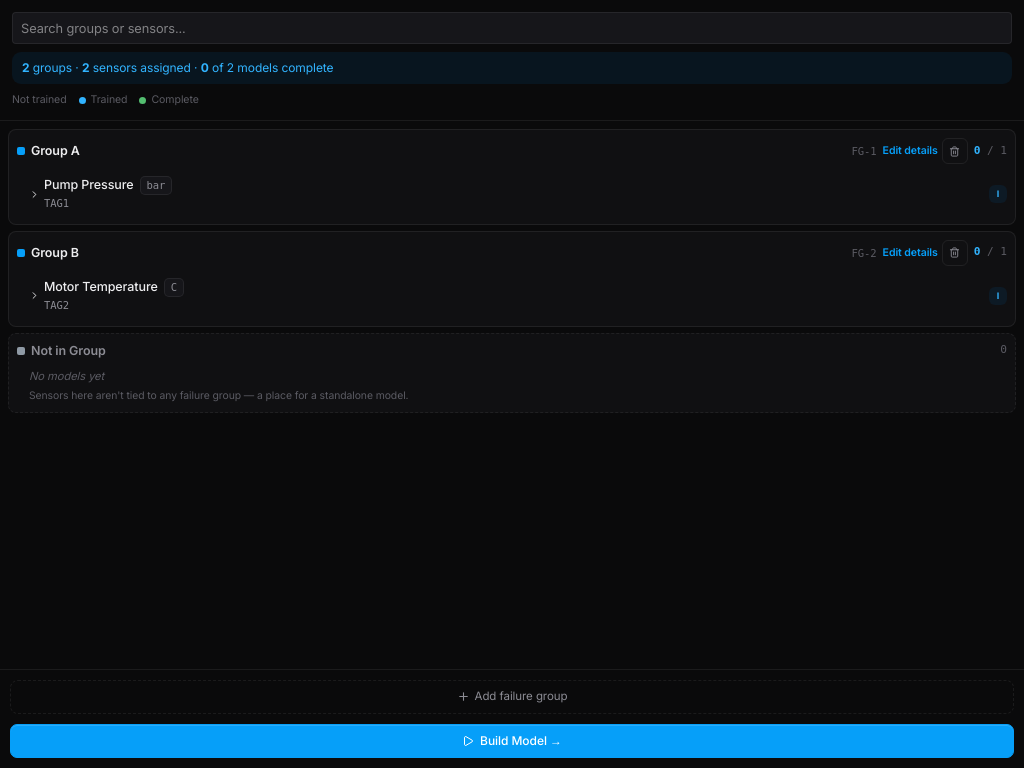
Test: FailureGroupsPanel › search box › clearing the search restores every group and sensor
Type "motor" into the field with placeholder "Search groups or sensors..." at (512, 28), box [12, 12, 1012, 44]
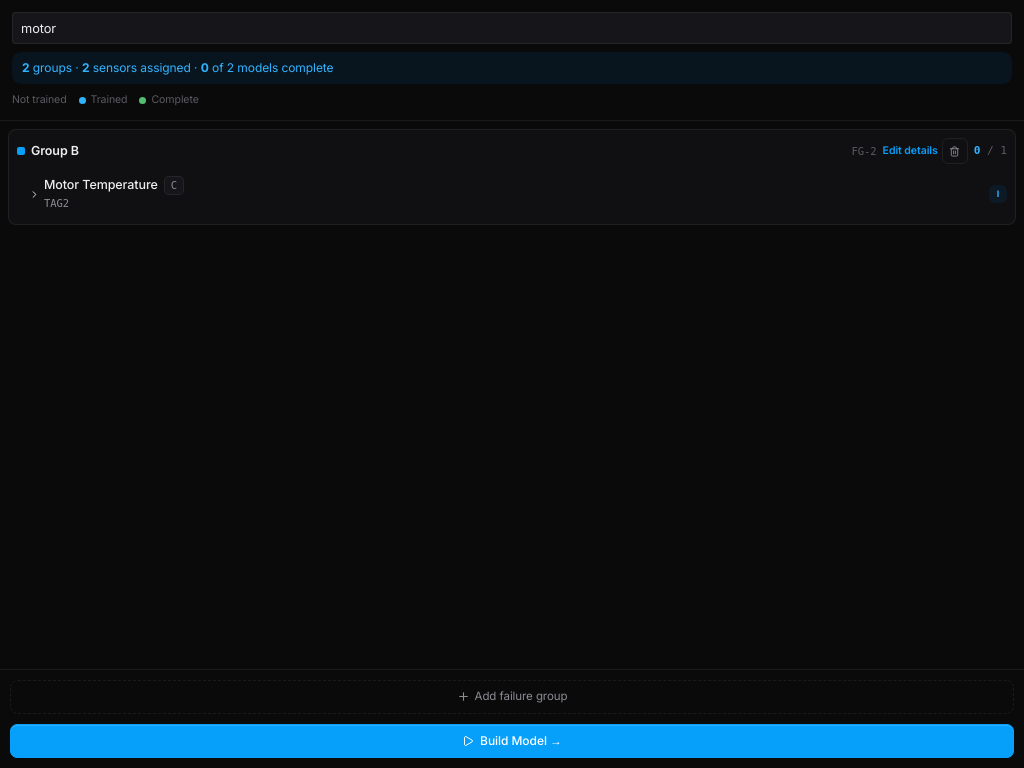
Clear the field with placeholder "Search groups or sensors..." at (512, 28), box [12, 12, 1012, 44]
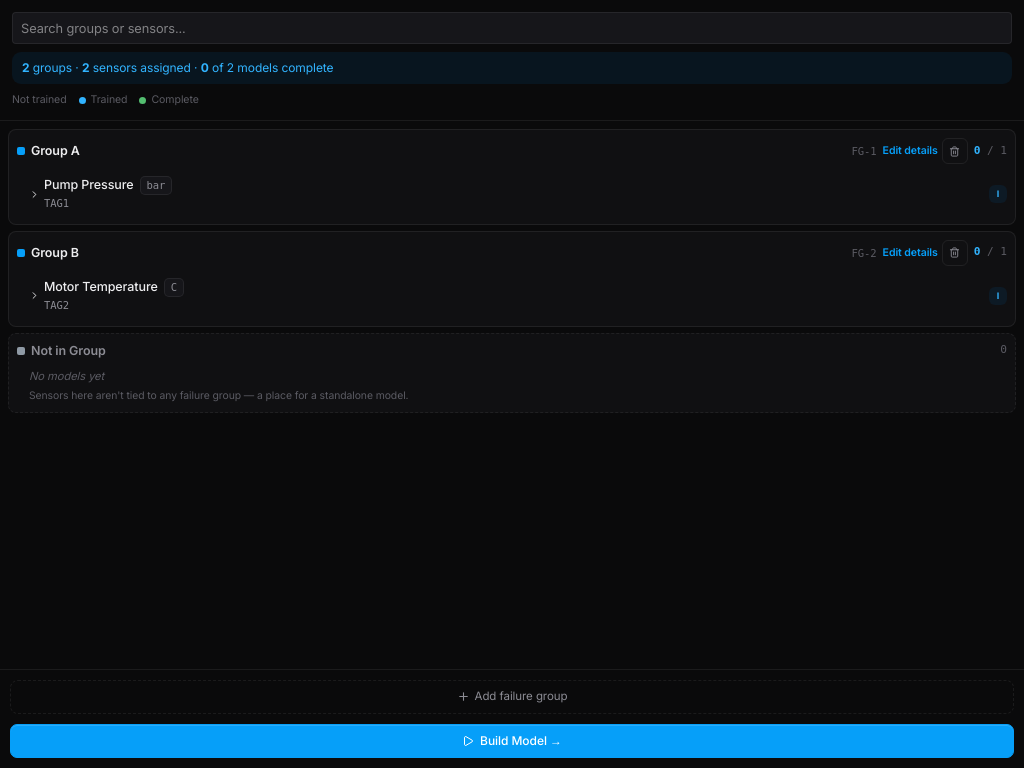
Expected: the text "Group B" is shown, [31, 244, 79, 260]
Expected: the text "Group A" is shown, [31, 143, 80, 158]
